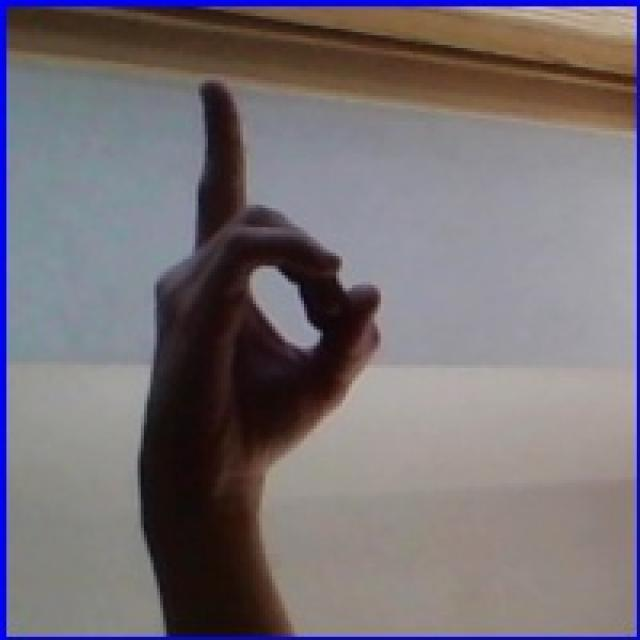Letra D: (89, 51, 421, 569)
